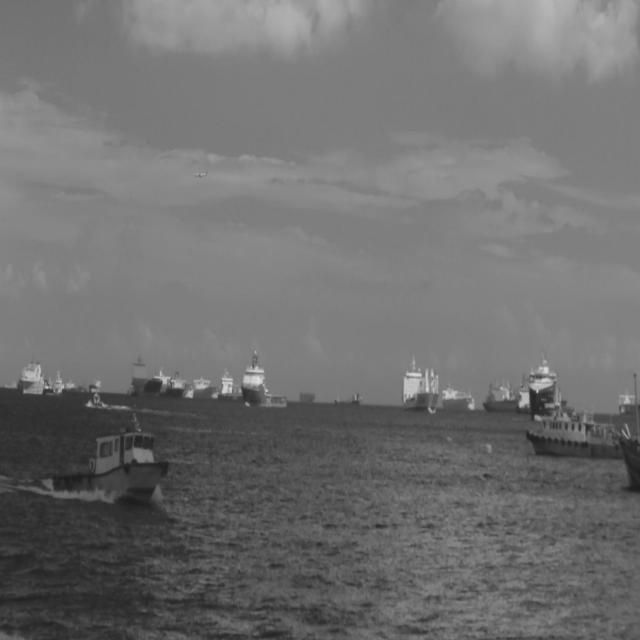ship: (52, 410, 169, 498), (526, 377, 633, 456), (241, 344, 288, 406), (528, 345, 568, 417), (401, 349, 440, 412), (126, 352, 164, 398), (482, 370, 519, 410), (183, 370, 218, 403), (18, 354, 46, 395), (619, 429, 639, 486), (442, 378, 476, 409), (218, 363, 241, 401), (165, 362, 188, 397), (618, 381, 639, 414), (334, 388, 363, 406), (50, 368, 66, 396), (89, 376, 102, 392), (92, 389, 102, 408)
